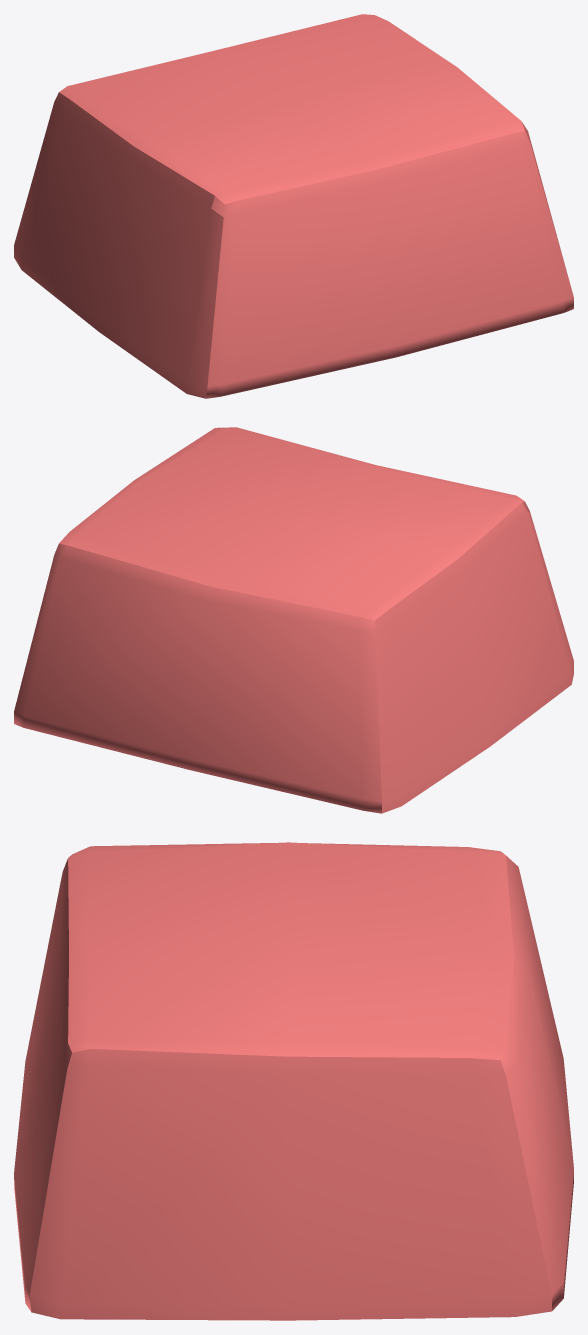
The model's file is Prisoner_Cap.fbx.
The picture shows the model from 3 angles, top to bottom: view 1: azimuth 30°, elevation 25°; view 2: azimuth 150°, elevation 25°; view 3: azimuth 270°, elevation 25°; orthographic projection. The views are drawn at different scales.
Parts seen in each view (by area): view 1: Prisoner_Cap; view 2: Prisoner_Cap; view 3: Prisoner_Cap.
Part boxes in pixels (x1,y1,x2,y2): Prisoner_Cap: (14, 14, 573, 398); Prisoner_Cap: (14, 427, 573, 813); Prisoner_Cap: (14, 842, 573, 1320).
Bounding box in the file's own units: 0.47 × 0.212 × 0.4306.
